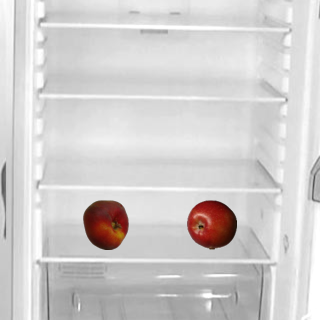Apple Braeburn: (186, 199, 236, 249)
Nectarine Flat: (80, 199, 130, 249)
